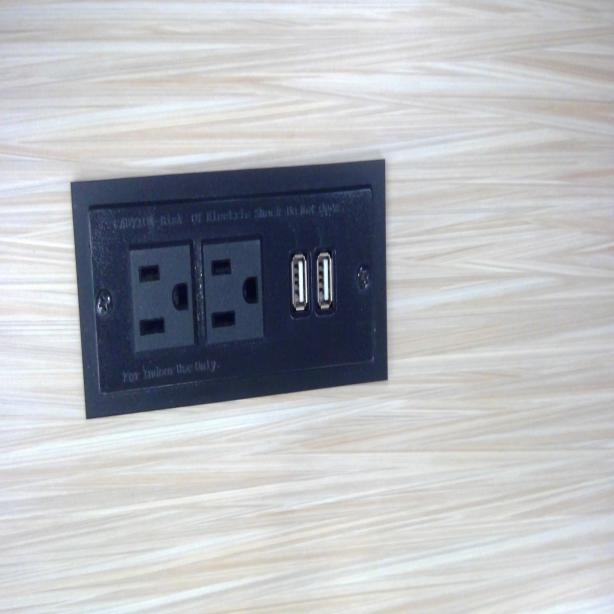typeb: (129, 249, 195, 350), (202, 244, 262, 342)
